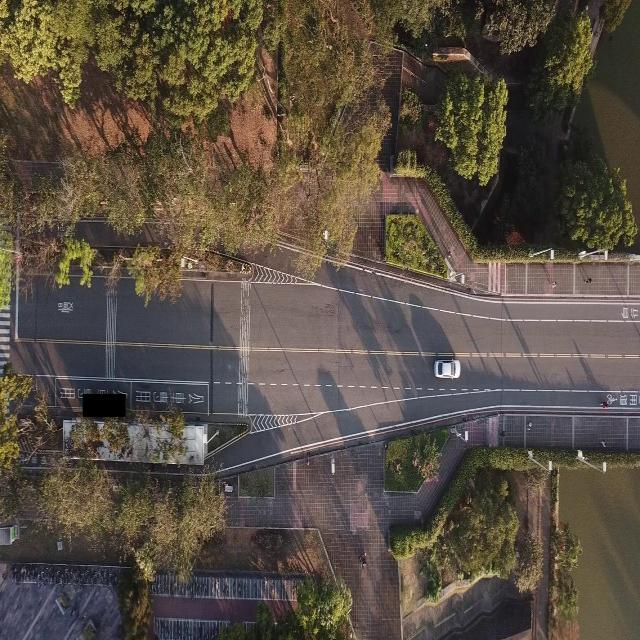car: (432, 356, 460, 380)
